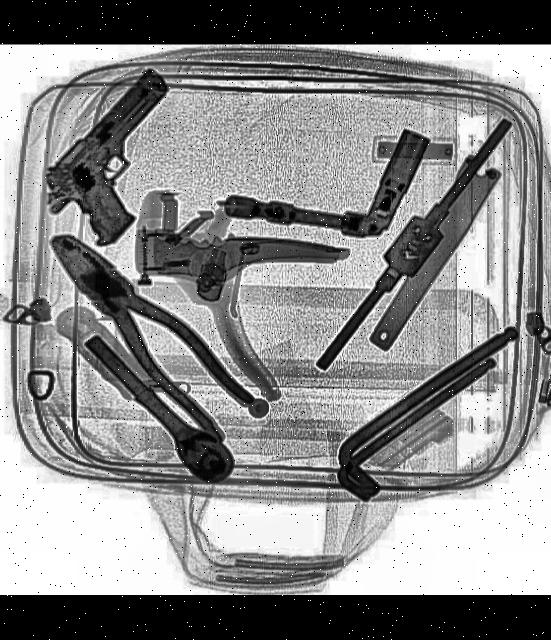Gun: (24, 64, 224, 255)
Pliers: (29, 213, 264, 447)
